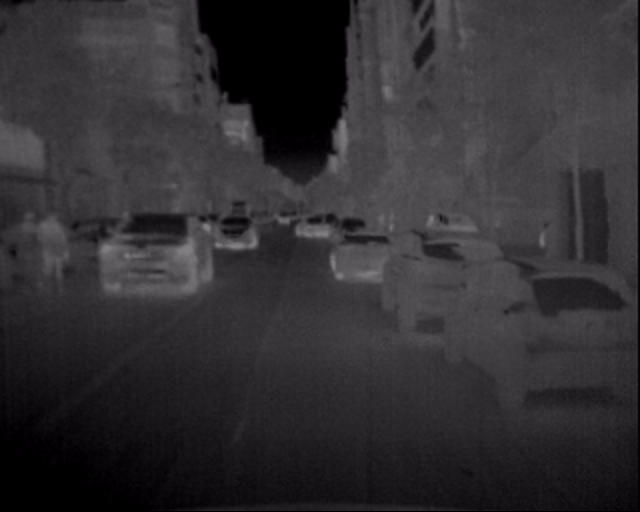person: (19, 203, 75, 309), (1, 200, 50, 306)
